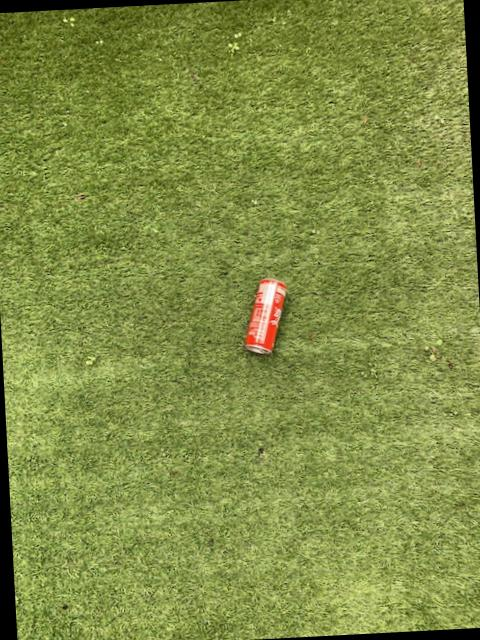metal: (246, 280, 287, 354)
